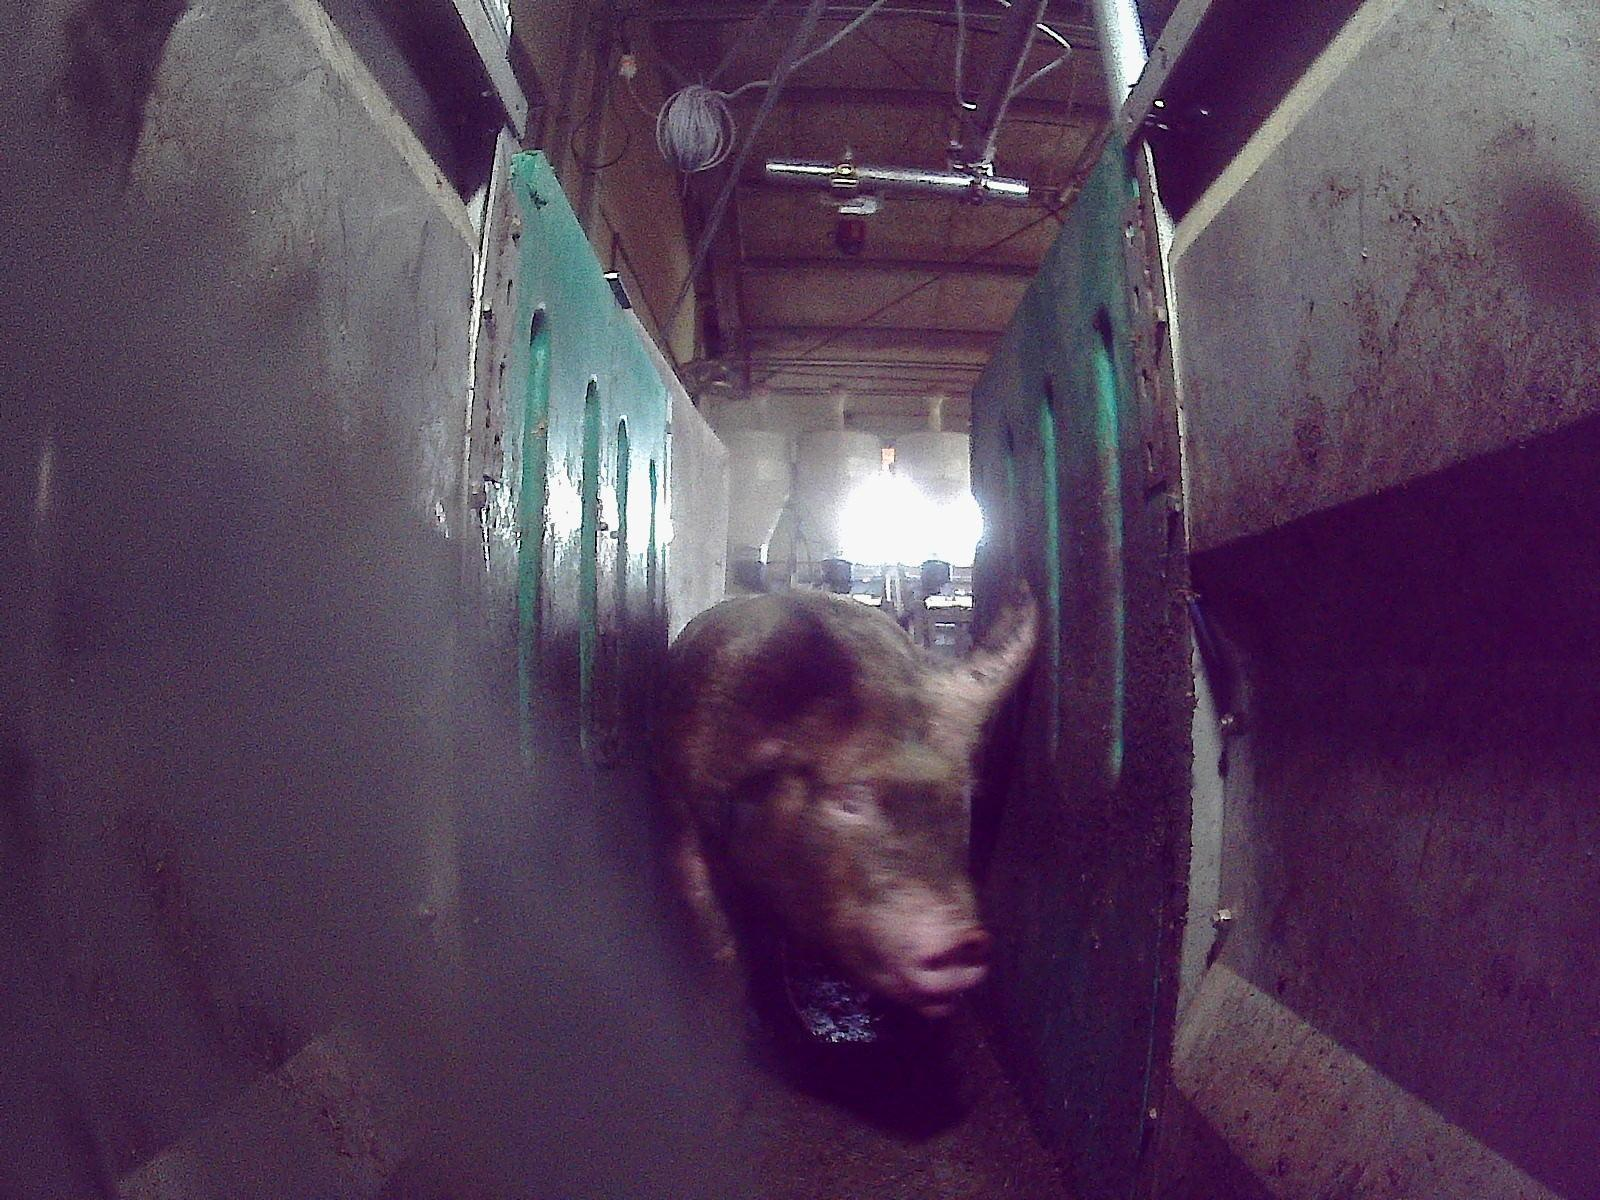Face: (709, 661, 990, 1019)
